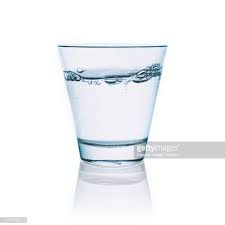glass: (54, 38, 172, 172)
